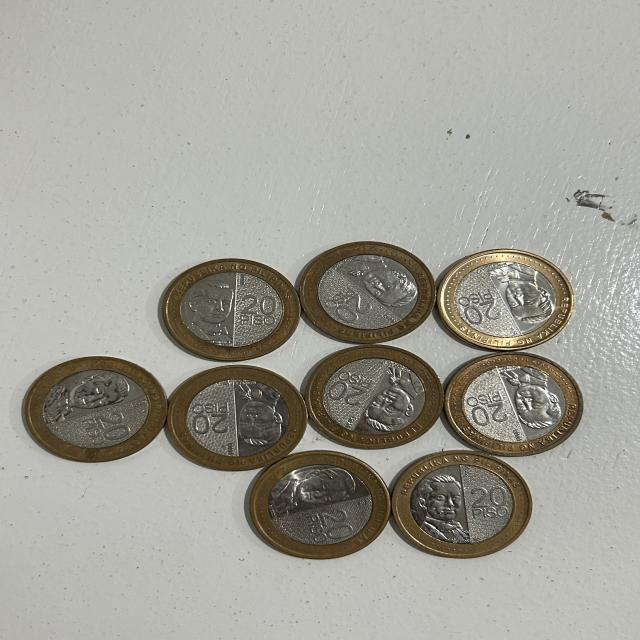20_New_Front: (316, 278, 379, 333), (78, 406, 154, 450), (460, 476, 516, 530), (188, 396, 245, 448), (448, 278, 495, 335), (300, 508, 370, 545), (459, 389, 512, 435), (325, 364, 368, 418), (237, 282, 283, 328)
